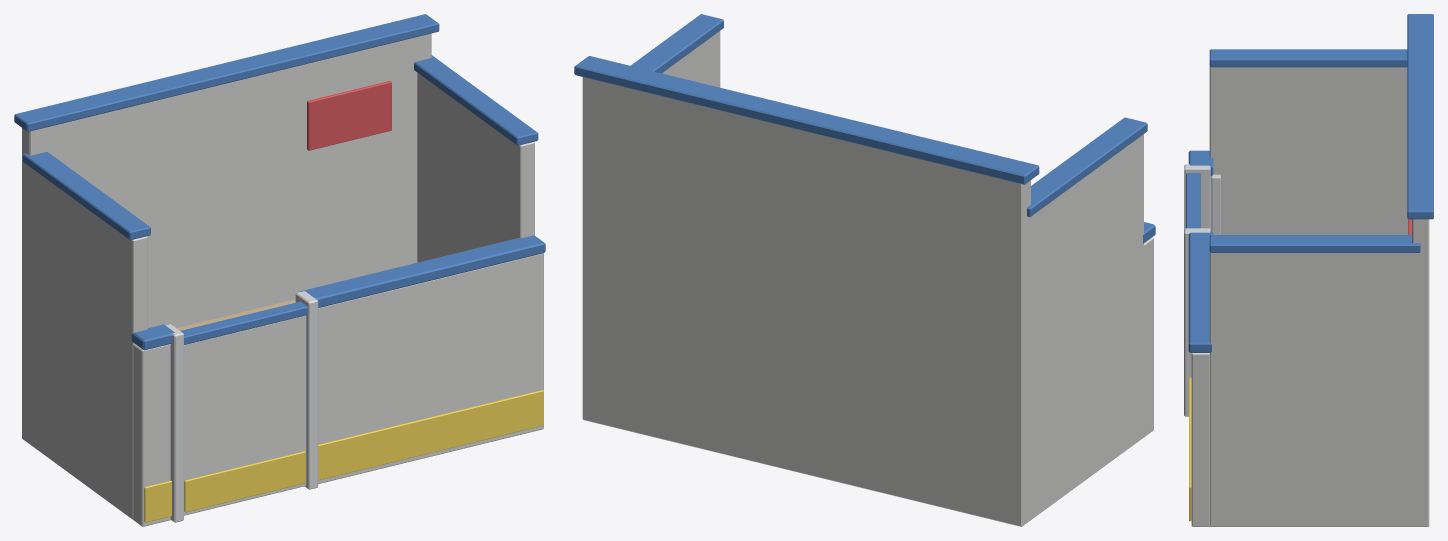
The model's file is ice-hockey-arena-and-locker-room-penalty-box-057f8942.glb.
3 renders of one model, left to right at view 1: azimuth 30°, elevation 25°; view 2: azimuth 150°, elevation 25°; view 3: azimuth 270°, elevation 25°, orthographic. The views are drawn at different scales.
Parts seen in each view (by area): view 1: penalty-box, box-door/white, box-door/yellow, box-door/blue; view 2: penalty-box; view 3: penalty-box, box-door/blue.
Boxes of the visible parts, box(x1,y1,x2,y2) form: penalty-box: box(14, 14, 545, 526); box-door/white: box(184, 315, 306, 515); box-door/yellow: box(184, 451, 305, 512); box-door/blue: box(180, 301, 307, 344); penalty-box: box(574, 14, 1155, 526); penalty-box: box(1184, 14, 1433, 526); box-door/blue: box(1186, 173, 1200, 228).
Bounding box in the file's own units: 2.46 × 1.85 × 1.31.
